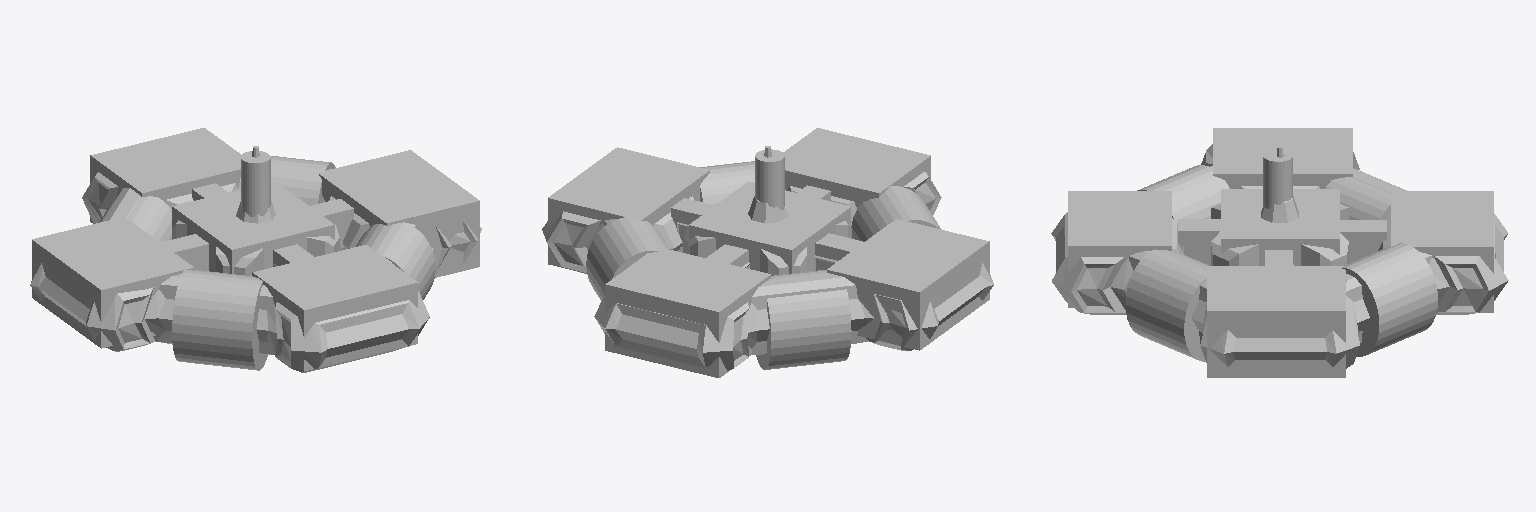
Rendered from Station0.obj.
The picture shows the model from 3 angles: view 1: azimuth 30°, elevation 25°; view 2: azimuth 150°, elevation 25°; view 3: azimuth 270°, elevation 25°; orthographic projection.
Parts seen in each view (by area): view 1: map, Cube.001, Cube.003, Cube.002, Cylinder.004, Cube.004, Cube.005, Cylinder.002, Cylinder.001, Cylinder.003, Cylinder, Cube.008 (+2 smaller); view 2: map, Cube.003, Cube.004, Cube.001, Cube.002, Cube.005, Cylinder, Cylinder.001, Cylinder.004, Cylinder.002, Cylinder.003, Cube.008 (+2 smaller); view 3: map, Cube.001, Cylinder.001, Cube.003, Cube.002, Cube.004, Cylinder.002, Cube.005, Cylinder.004, Cylinder, Cylinder.003, Cube.007 (+1 smaller).
Part boxes in pixels (left/top/right/bottom): map: left=30, top=146, right=481, bottom=372; Cube.001: left=318, top=150, right=479, bottom=277; Cube.003: left=32, top=217, right=193, bottom=348; Cube.002: left=252, top=245, right=417, bottom=371; Cylinder.004: left=172, top=270, right=267, bottom=370; Cube.004: left=90, top=128, right=240, bottom=223; Cube.005: left=172, top=181, right=334, bottom=273; Cylinder.002: left=356, top=222, right=435, bottom=299; Cylinder.001: left=239, top=156, right=335, bottom=205; Cylinder.003: left=241, top=151, right=270, bottom=216; Cylinder: left=99, top=196, right=171, bottom=241; Cube.008: left=160, top=234, right=208, bottom=270; map: left=542, top=146, right=993, bottom=370; Cube.003: left=827, top=219, right=989, bottom=350; Cube.004: left=605, top=247, right=770, bottom=377; Cube.001: left=548, top=147, right=709, bottom=273; Cube.002: left=783, top=128, right=930, bottom=208; Cube.005: left=689, top=181, right=850, bottom=273; Cylinder: left=756, top=270, right=851, bottom=369; Cylinder.001: left=586, top=217, right=669, bottom=300; Cylinder.004: left=851, top=186, right=941, bottom=241; Cylinder.002: left=700, top=161, right=754, bottom=204; Cylinder.003: left=755, top=149, right=784, bottom=209; Cube.008: left=815, top=233, right=863, bottom=270; map: left=1051, top=144, right=1508, bottom=368; Cube.001: left=1207, top=266, right=1345, bottom=377; Cylinder.001: left=1342, top=243, right=1437, bottom=356; Cube.003: left=1213, top=128, right=1352, bottom=188; Cube.002: left=1068, top=191, right=1171, bottom=307; Cube.004: left=1391, top=191, right=1493, bottom=312; Cylinder.002: left=1125, top=249, right=1208, bottom=361; Cube.005: left=1221, top=189, right=1339, bottom=265; Cylinder.004: left=1137, top=165, right=1229, bottom=222; Cylinder: left=1325, top=177, right=1390, bottom=219; Cylinder.003: left=1263, top=149, right=1292, bottom=208; Cube.007: left=1178, top=219, right=1220, bottom=265.
Size of the model in its own units: 9.7 by 5.1 by 9.7.